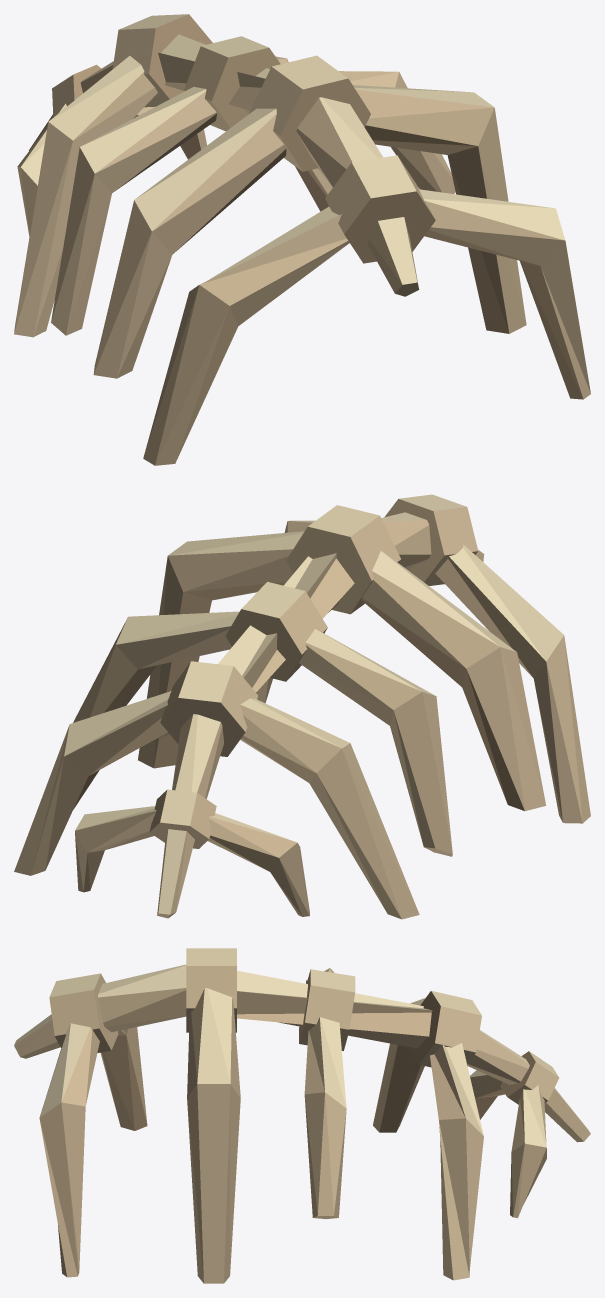
File: TB_D_Env_BoneC_A.FBX
3 renders of one model, top to bottom at view 1: azimuth 30°, elevation 25°; view 2: azimuth 150°, elevation 25°; view 3: azimuth 270°, elevation 25°, orthographic. The views are drawn at different scales.
Visible parts, largest first — view 1: TB_D_Env_BoneC_A; view 2: TB_D_Env_BoneC_A; view 3: TB_D_Env_BoneC_A.
Part boxes in pixels (left/top/right/bottom): TB_D_Env_BoneC_A: left=14, top=14, right=590, bottom=465; TB_D_Env_BoneC_A: left=14, top=494, right=590, bottom=919; TB_D_Env_BoneC_A: left=14, top=948, right=590, bottom=1283.
Size of the model in its own units: 3.19 by 2.16 by 4.59.
